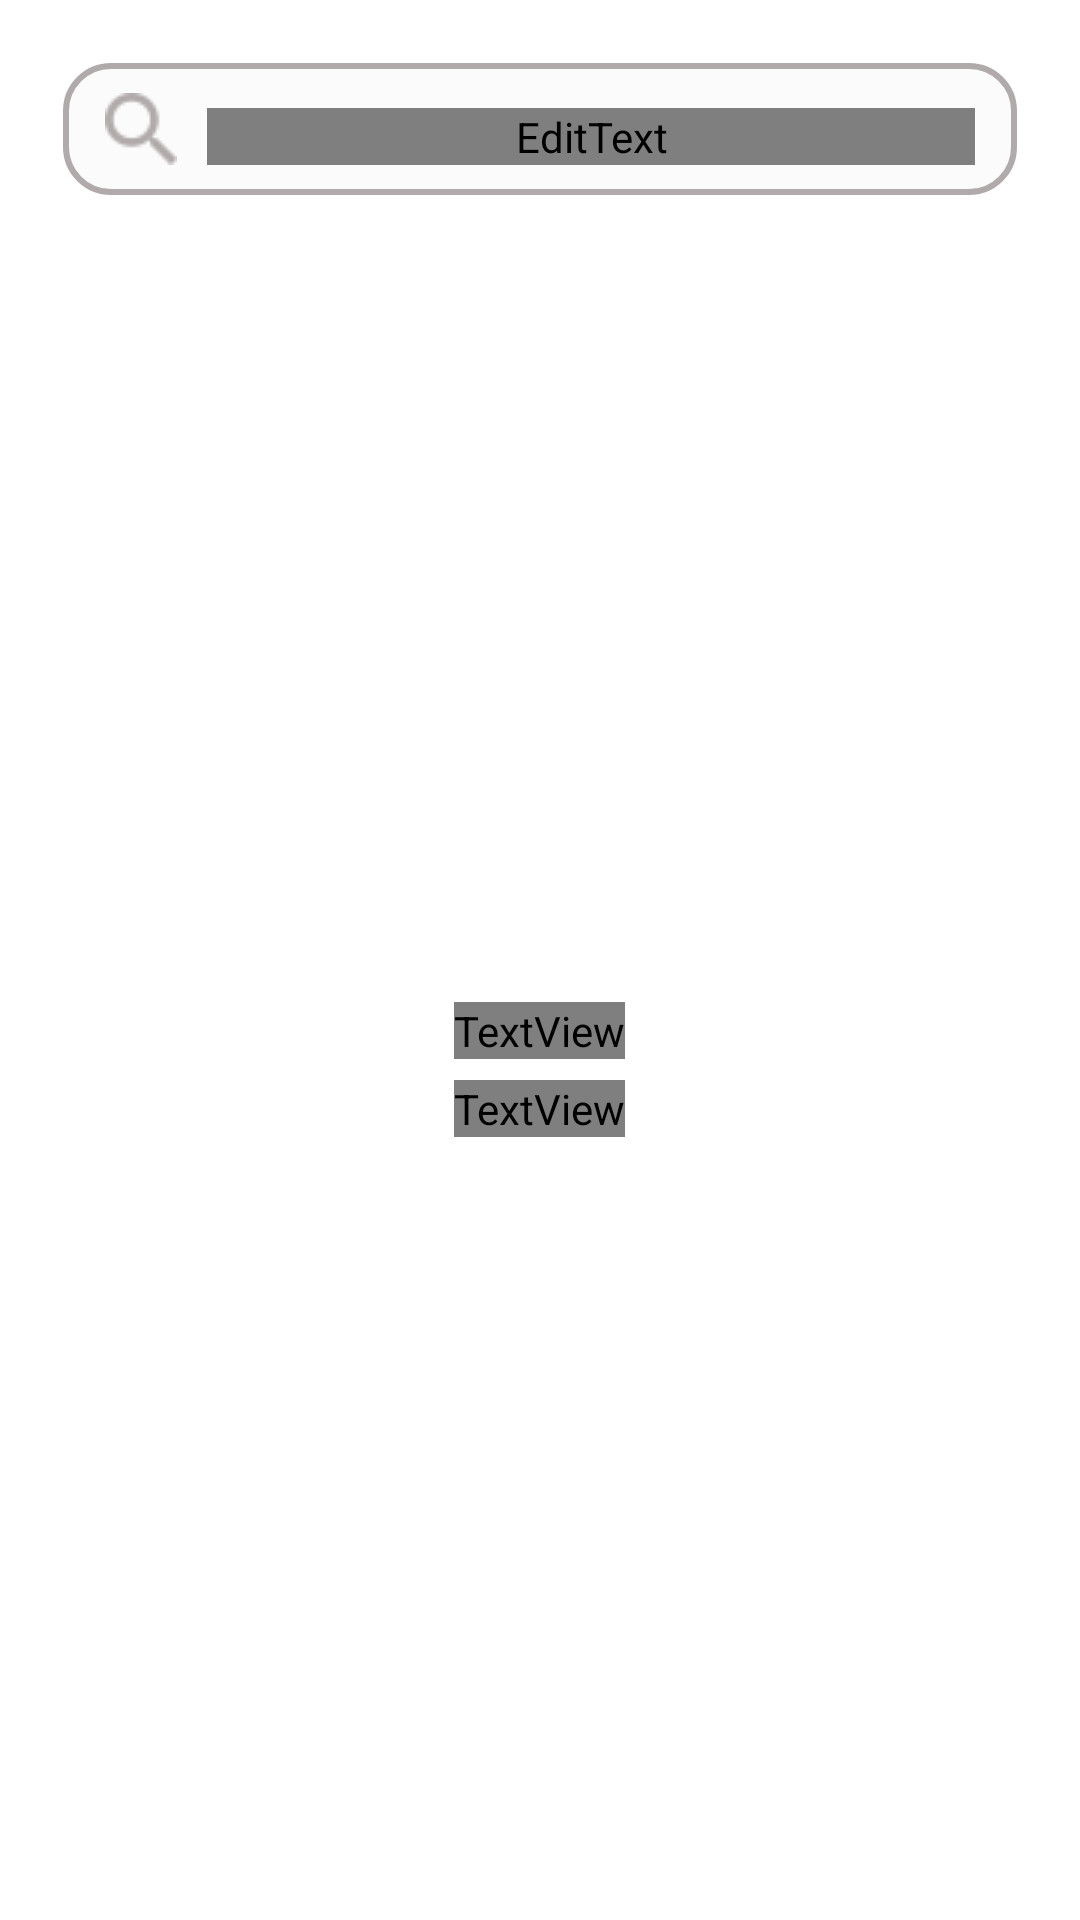

Where icons sit on this 1080x1920 app screen, as (x1, y1, x2, y2):
search: (105, 93, 177, 165)
